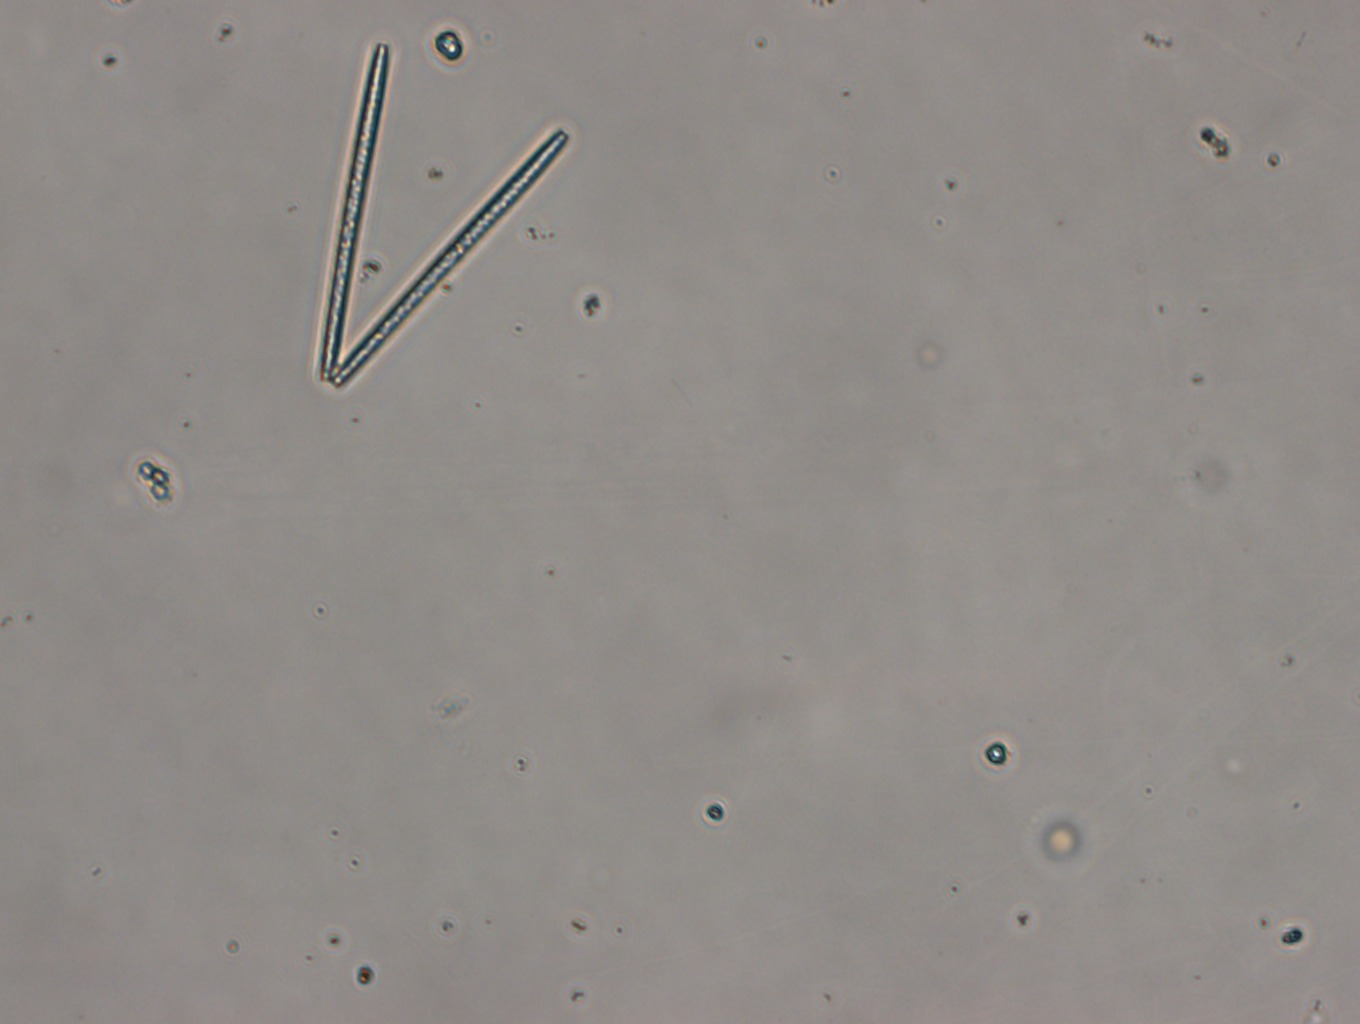thalassionema frauenfeldii: (316, 39, 569, 392)
